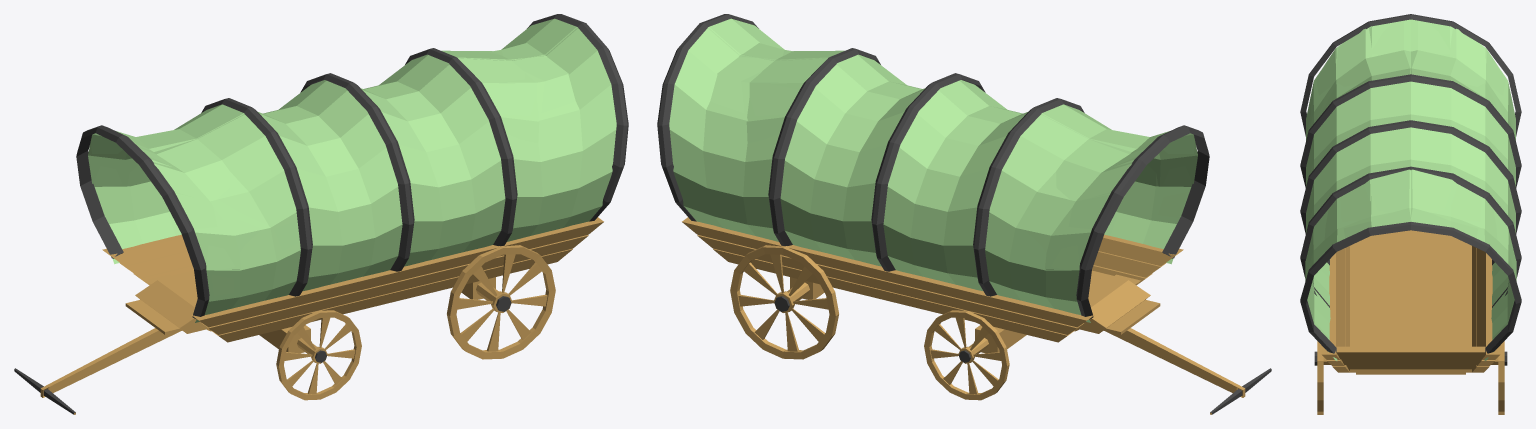
The model's file is at_arabası.fbx.
The picture shows the model from 3 angles, left to right: view 1: azimuth 30°, elevation 25°; view 2: azimuth 150°, elevation 25°; view 3: azimuth 270°, elevation 25°; orthographic projection. The views are drawn at different scales.
Parts seen in each view (by area): view 1: Circle.001; view 2: Circle.001; view 3: Circle.001.
Part boxes in pixels (x1,y1,x2,y2): Circle.001: (14,14,628,414); Circle.001: (657,14,1271,414); Circle.001: (1300,14,1521,414).
Bounding box in the file's own units: 556 × 259 × 211.
